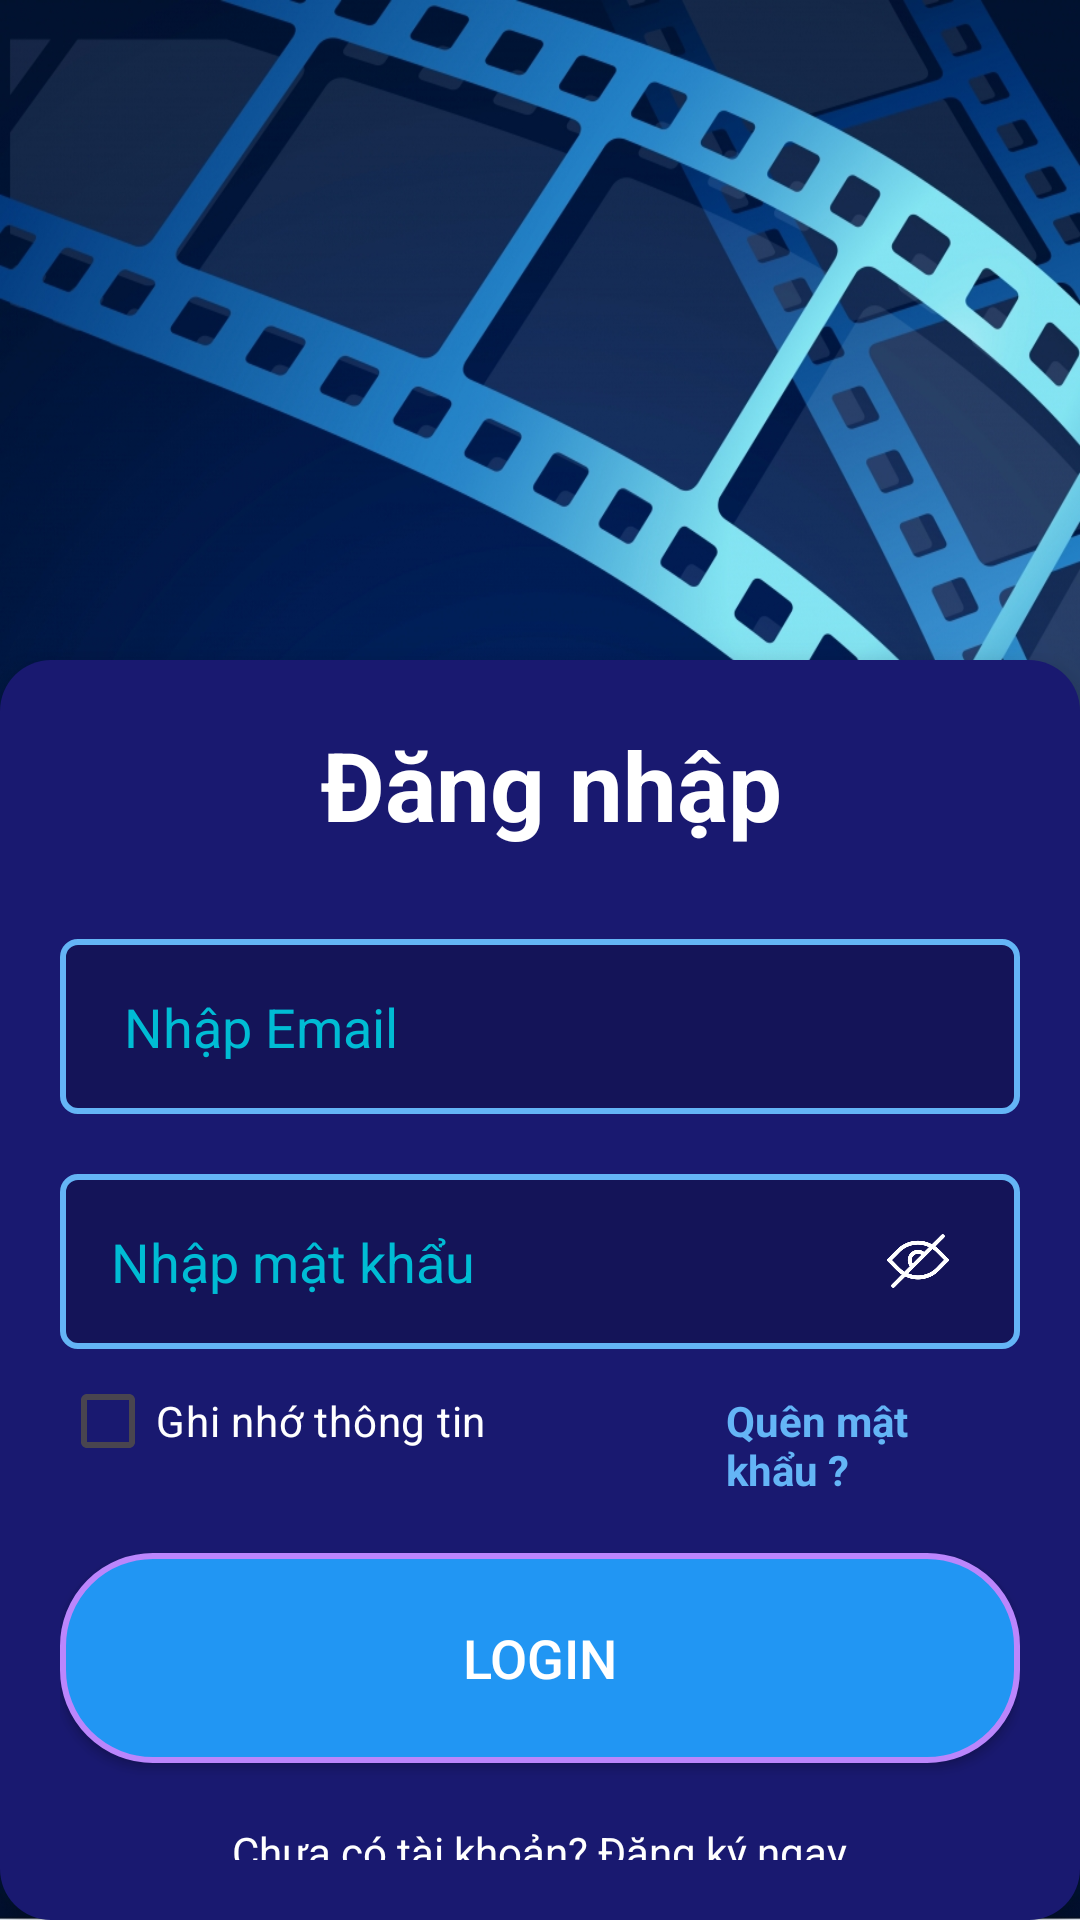

Named icons in this screenshot (1080w x 1920h) and their centers, point (x, y):
Toggle Password Visibility: point (918, 1261)
